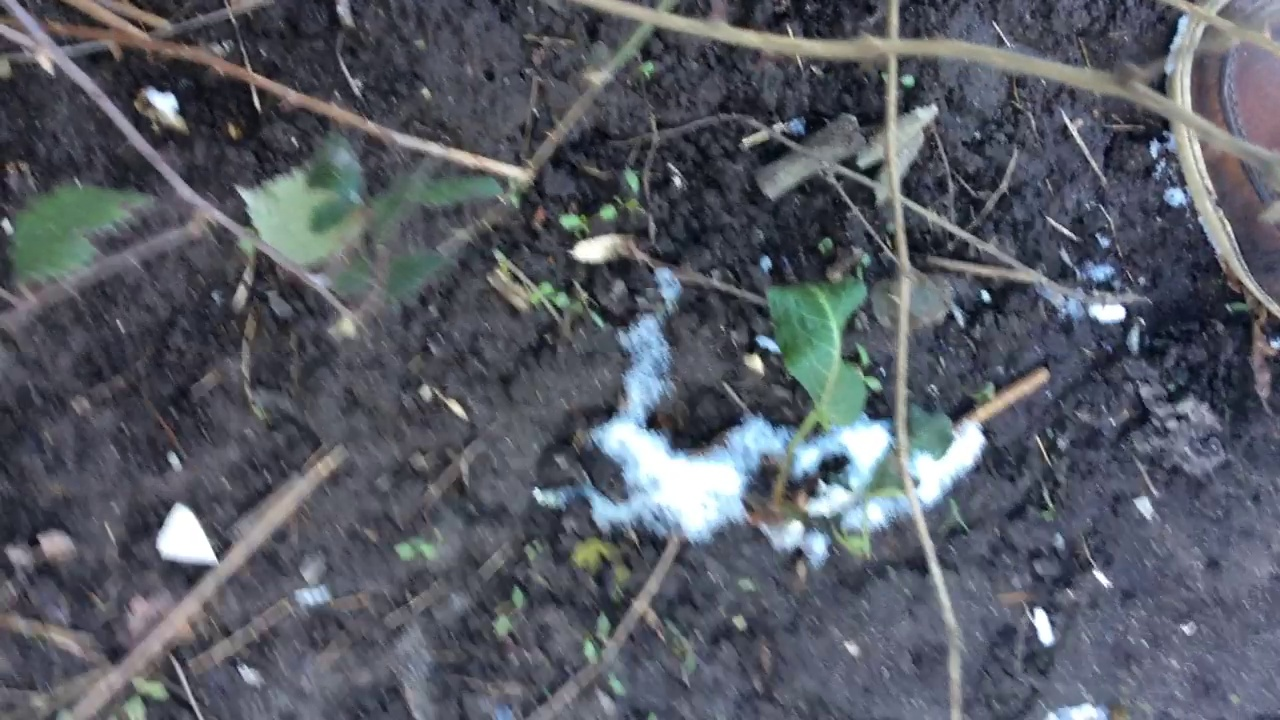root: (748, 480, 815, 534)
rumex: (744, 271, 953, 555)
